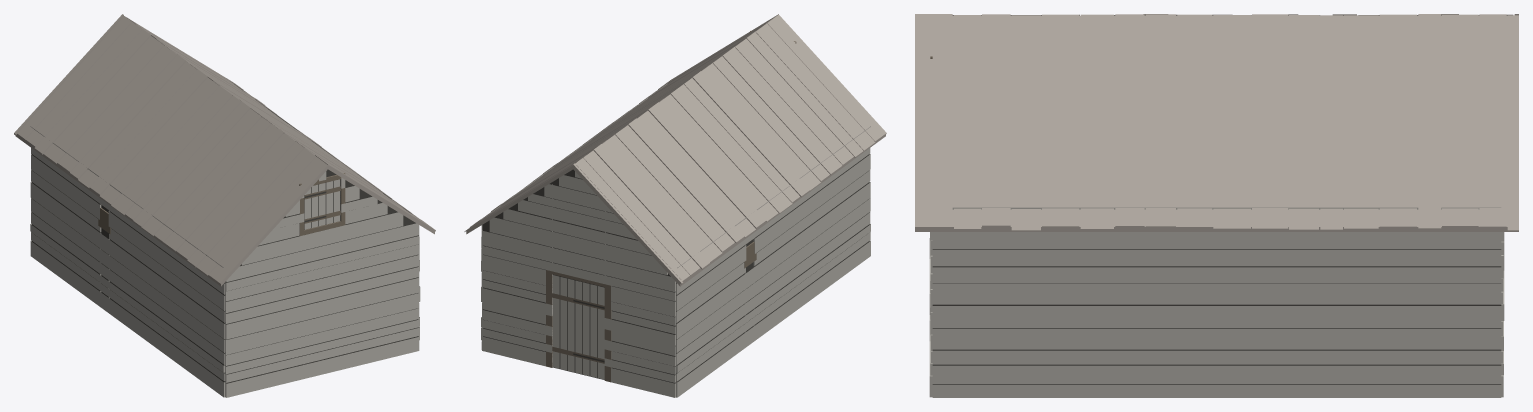
Rendered from recon_1835_north_a1_036__inferred_1835.glb.
3 renders of one model, left to right at view 1: azimuth 30°, elevation 25°; view 2: azimuth 150°, elevation 25°; view 3: azimuth 270°, elevation 25°, orthographic. The views are drawn at different scales.
Parts seen in each view (by area): view 1: recon_1835_north_a1_036__inferred_1835; view 2: recon_1835_north_a1_036__inferred_1835; view 3: recon_1835_north_a1_036__inferred_1835.
Boxes of the visible parts, <box> form: recon_1835_north_a1_036__inferred_1835: <box>14,14,435,397</box>; recon_1835_north_a1_036__inferred_1835: <box>464,14,886,397</box>; recon_1835_north_a1_036__inferred_1835: <box>915,14,1518,397</box>.
Size of the model in its own units: 5.61 by 5.25 by 9.15.
